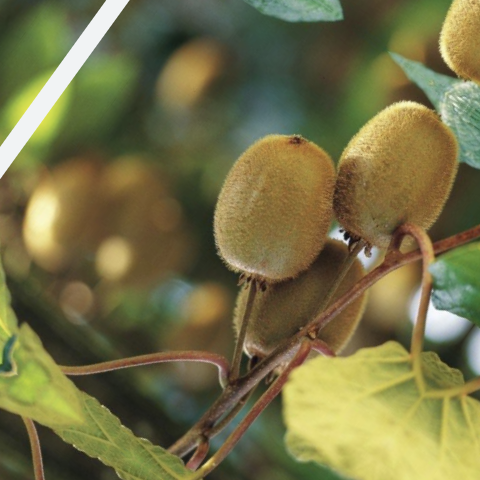kiwi: (282, 69, 480, 288), (198, 194, 400, 404), (173, 106, 374, 311)
